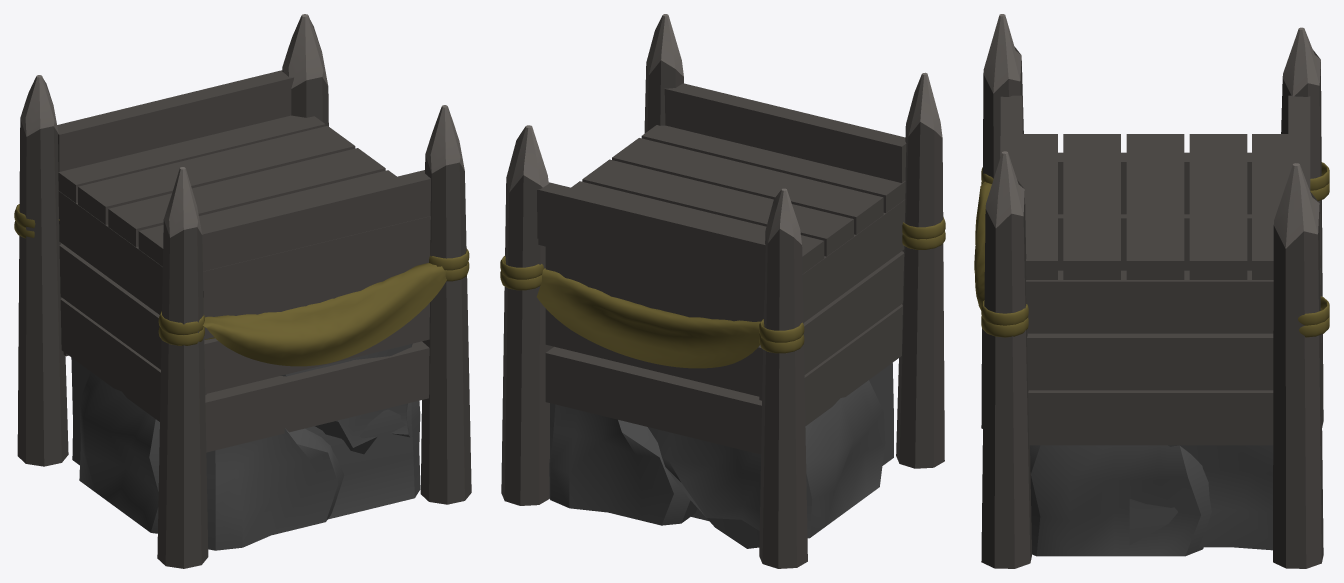
Rendered from fence2-2.fbx.
3 views of the same model, side by side, from view 1: azimuth 30°, elevation 25°; view 2: azimuth 150°, elevation 25°; view 3: azimuth 270°, elevation 25° (orthographic). The views are drawn at different scales.
Visible parts, largest first — view 1: polySurface878; view 2: polySurface878; view 3: polySurface878.
Boxes of the visible parts, x1,y1,x2,y2 form: polySurface878: (14, 14, 471, 568); polySurface878: (500, 14, 945, 568); polySurface878: (974, 14, 1329, 568).
Bounding box in the file's own units: 222 × 284 × 214.
